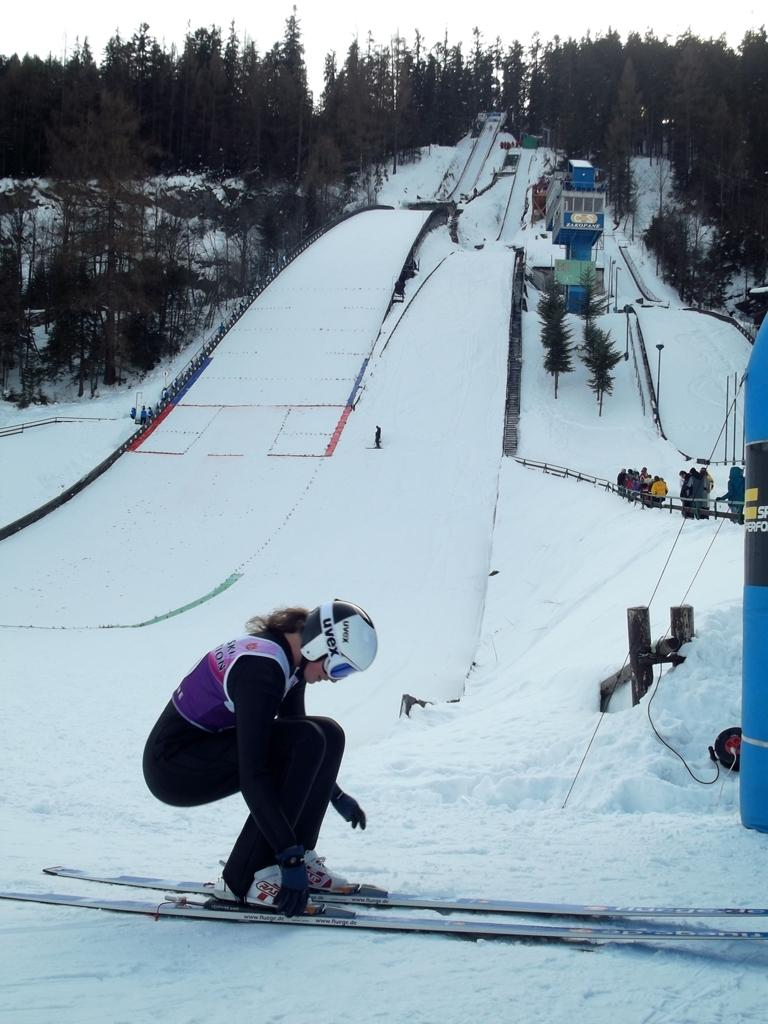helmet: (299, 598, 378, 685)
